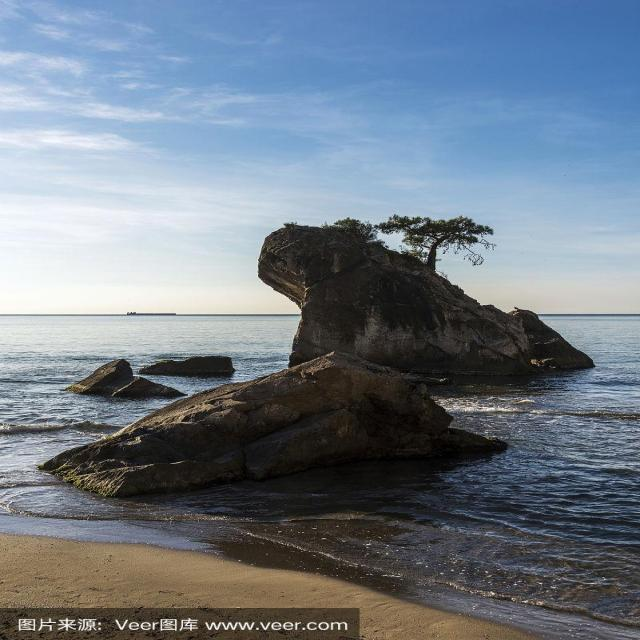reef: (59, 211, 594, 495)
